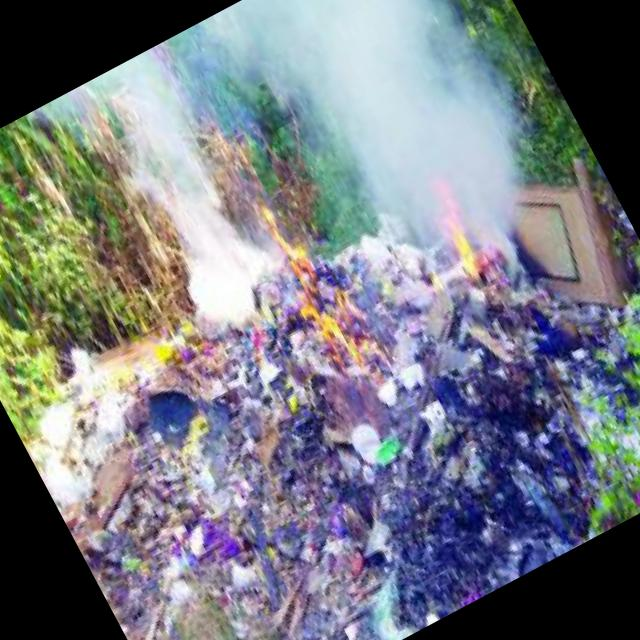fire: (232, 172, 392, 402), (418, 175, 498, 286)
smoke: (231, 0, 571, 286), (66, 36, 304, 342)
